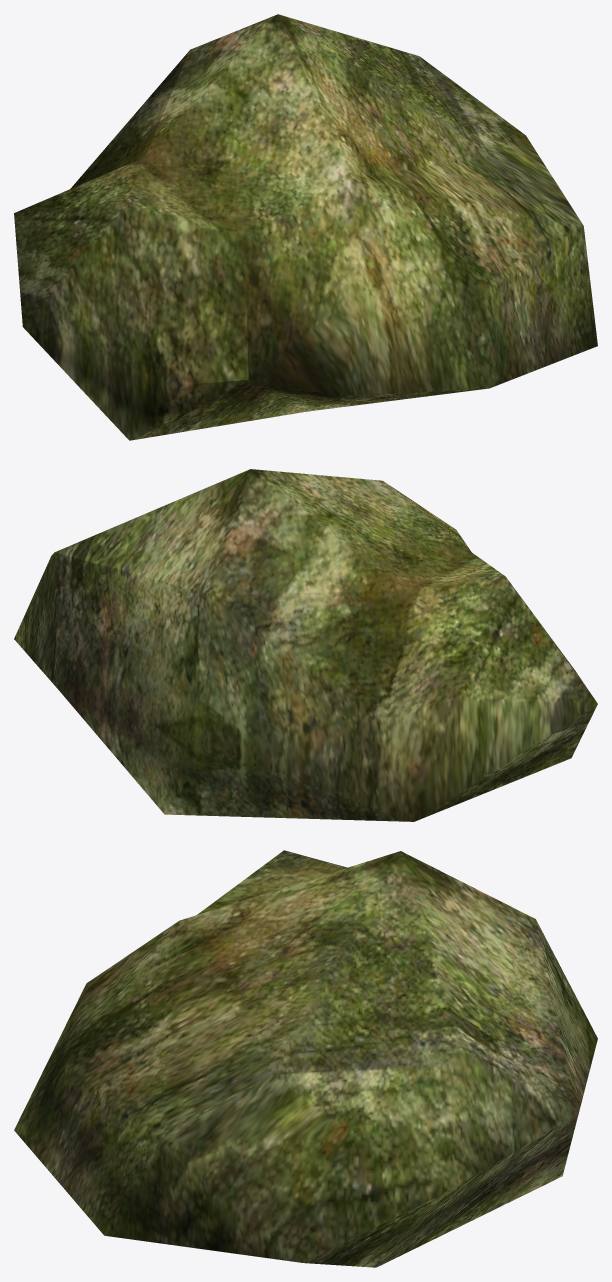
Rendered from rock_endr_mossyrock_m_a1_l2.fbx.
3 views of the same model, one above another, from view 1: azimuth 30°, elevation 25°; view 2: azimuth 150°, elevation 25°; view 3: azimuth 270°, elevation 25° (orthographic). The views are drawn at different scales.
Parts seen in each view (by area): view 1: mesh_node; view 2: mesh_node; view 3: mesh_node.
Part boxes in pixels (x1,y1,x2,y2): mesh_node: (14, 14, 597, 440); mesh_node: (14, 469, 597, 821); mesh_node: (14, 850, 597, 1267).
Size of the model in its own units: 2.48 by 1.4 by 2.09.
Materials: 1 (1 with a texture image).
